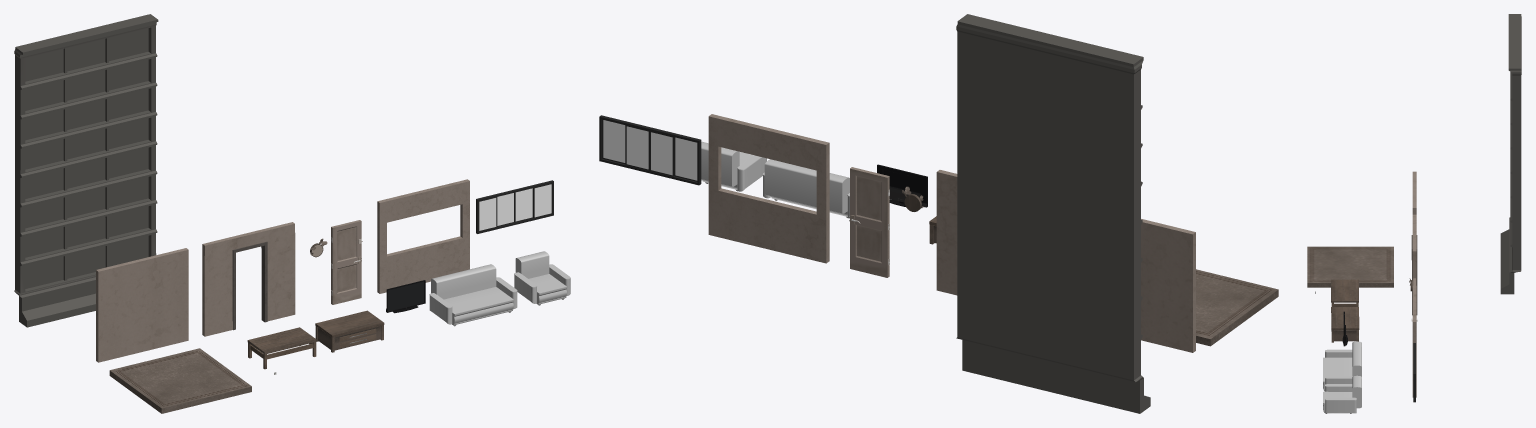
Rendered from All Assets.fbx.
3 views of the same model, side by side, from view 1: azimuth 30°, elevation 25°; view 2: azimuth 150°, elevation 25°; view 3: azimuth 270°, elevation 25° (orthographic). The views are drawn at different scales.
Visible parts, largest first — view 1: Building1, Wall1, Wall_Door, Wall_Window, Floor, Door:asset, Couch_Sitting, Couch_Back_Rest, Tables:Coffee_Table_Top, Tables:Tv_Table_Stand_Top, TV:Screen, Chair (+9 smaller); view 2: Building1, Wall_Window, Wall1, Door:asset, Floor, Couch_Back_Rest, Wall_Door, Window_Frame, TV:Screen, Window_Panel_Middle_Left, Window_Panel_Middle_Right, Chair_Back_Rest (+3 smaller); view 3: Building1, Floor, Chair, Tables:Coffee_Table_Top, Tables:Tv_Table_Stand_Top, Couch_Sitting, Wall_Door, Wall_Window, Couch_Back_Rest, Chair_Back_Rest, Couch_Arm_Rest_1, Tables:Tv_Table_Stand_Block (+3 smaller).
Part boxes in pixels (box(x1,y1,x2,y2)): Building1: box(14, 14, 158, 327); Wall1: box(96, 248, 188, 362); Wall_Door: box(202, 222, 295, 336); Wall_Window: box(377, 179, 469, 293); Floor: box(109, 348, 251, 413); Door:asset: box(331, 220, 362, 304); Couch_Sitting: box(444, 287, 513, 325); Couch_Back_Rest: box(431, 264, 496, 299); Tables:Coffee_Table_Top: box(247, 327, 316, 354); Tables:Tv_Table_Stand_Top: box(315, 310, 384, 337); TV:Screen: box(386, 280, 425, 312); Chair: box(514, 264, 570, 305); Building1: box(956, 14, 1150, 413); Wall_Window: box(708, 114, 829, 263); Wall1: box(1141, 219, 1195, 352); Door:asset: box(849, 167, 889, 277); Floor: box(1196, 269, 1278, 346); Couch_Back_Rest: box(764, 159, 849, 213); Wall_Door: box(936, 170, 957, 295); Window_Frame: box(599, 115, 701, 185); TV:Screen: box(877, 164, 927, 207); Window_Panel_Middle_Left: box(649, 131, 674, 176); Window_Panel_Middle_Right: box(625, 125, 649, 170); Chair_Back_Rest: box(701, 141, 739, 186); Building1: box(1500, 14, 1521, 294); Floor: box(1307, 246, 1393, 287); Chair: box(1325, 384, 1356, 413); Tables:Coffee_Table_Top: box(1331, 279, 1358, 302); Tables:Tv_Table_Stand_Top: box(1331, 307, 1359, 329); Couch_Sitting: box(1323, 357, 1352, 391); Wall_Door: box(1411, 214, 1417, 315); Wall_Window: box(1412, 285, 1416, 397); Couch_Back_Rest: box(1352, 341, 1361, 376); Chair_Back_Rest: box(1352, 375, 1361, 408); Couch_Arm_Rest_1: box(1325, 349, 1352, 357); Tables:Tv_Table_Stand_Block: box(1334, 330, 1356, 341).
Size of the model in its own units: 2712 by 1511 by 1275.
